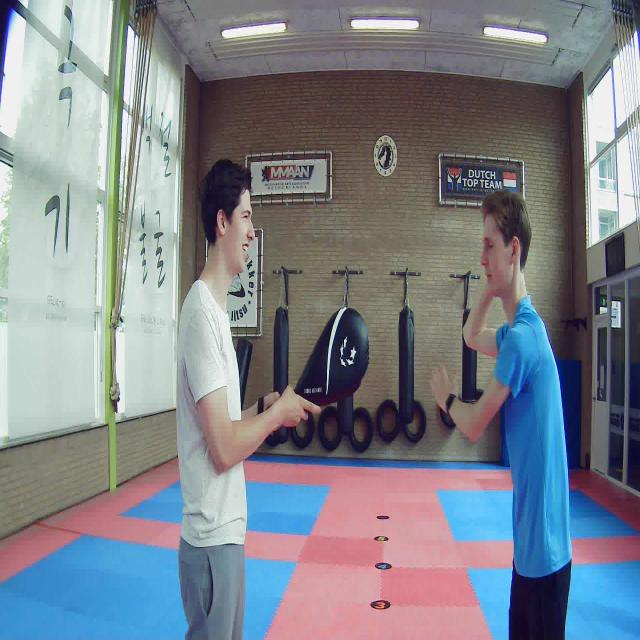paddle: (294, 307, 370, 406)
